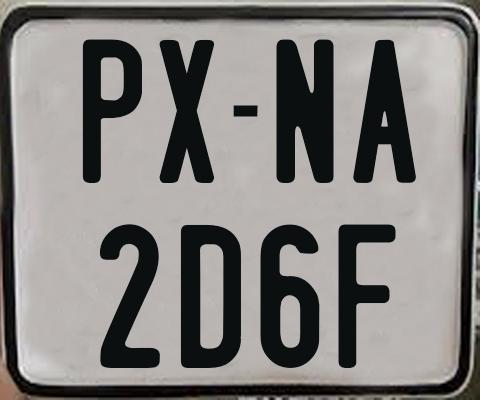2: (97, 221, 159, 371)
6: (258, 223, 323, 373)
A: (350, 38, 415, 186)
D: (181, 223, 244, 366)
F: (338, 223, 400, 368)
N: (273, 38, 331, 183)
P: (83, 36, 146, 183)
X: (156, 38, 214, 185)
